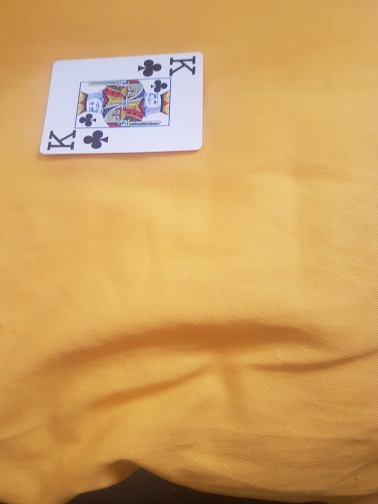king: (40, 52, 205, 155)
